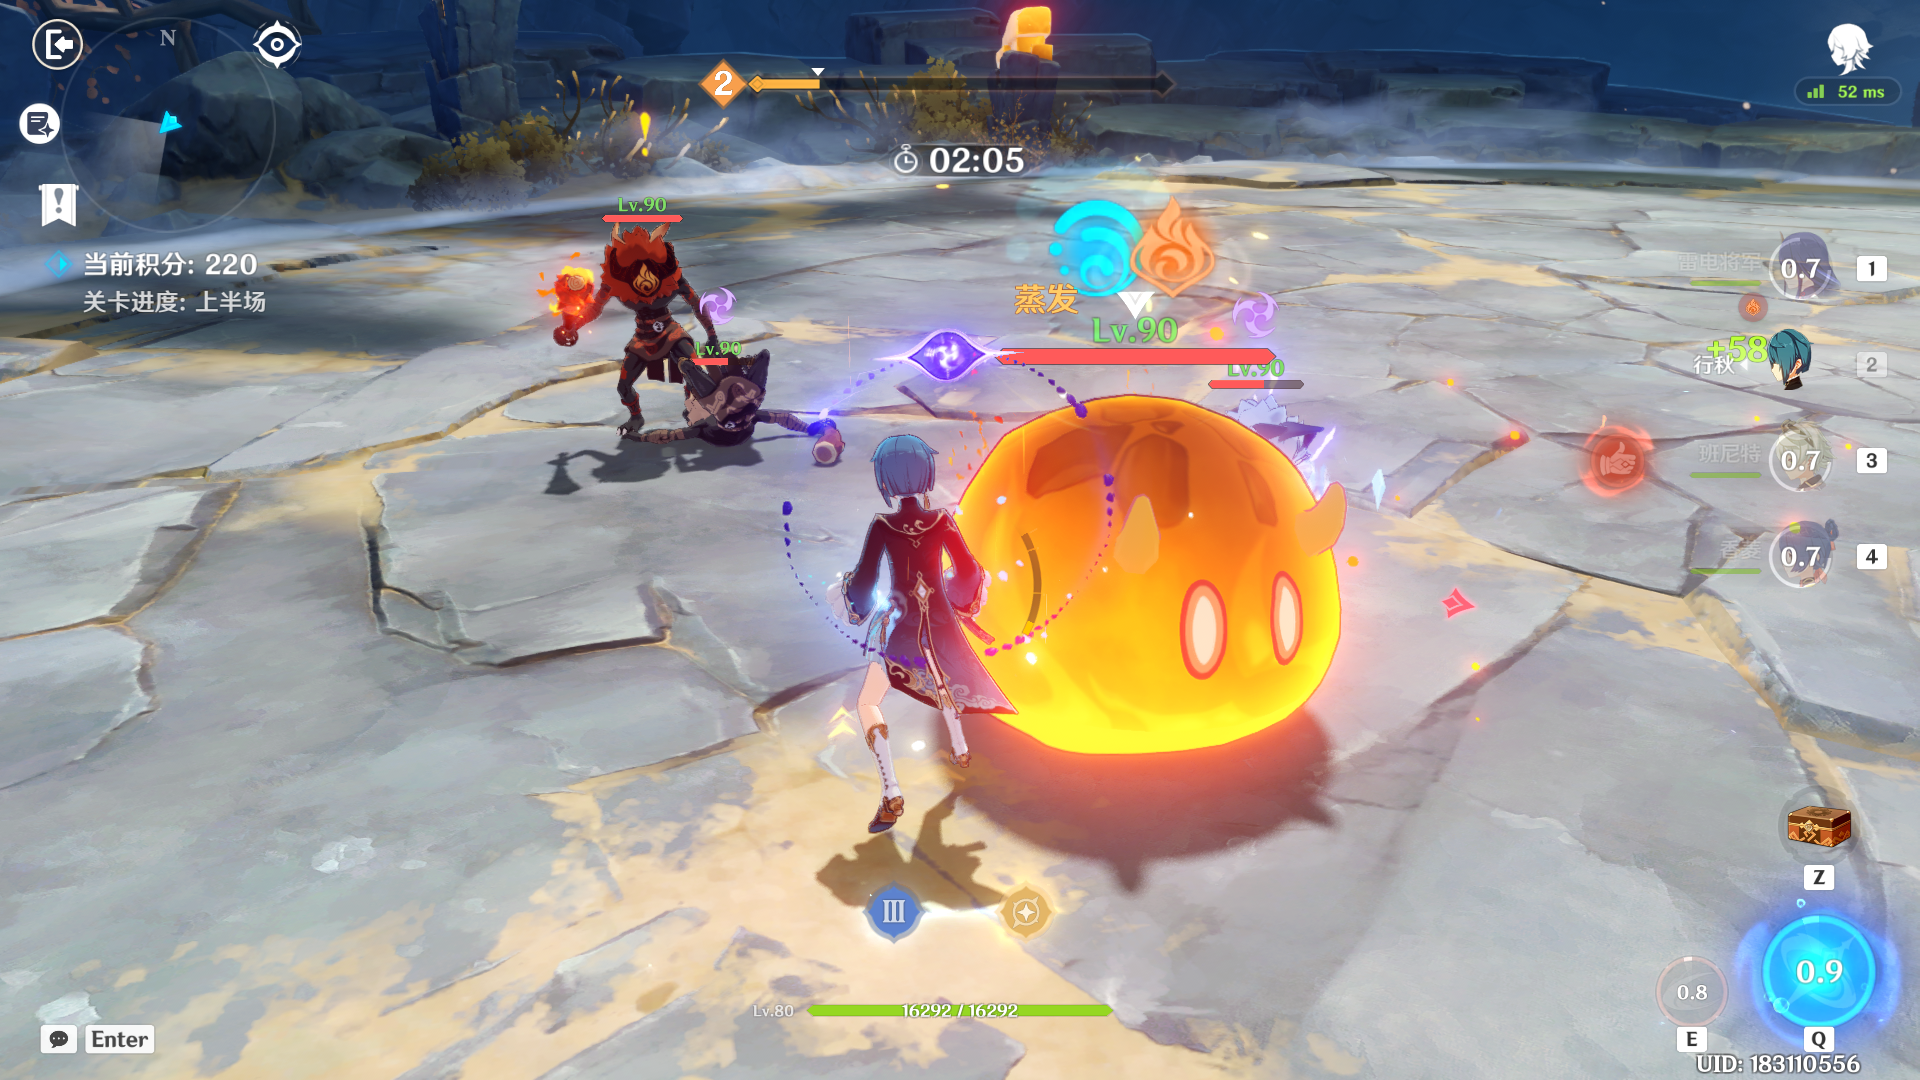character: (825, 382, 1005, 851)
hili: (527, 212, 745, 446)
slime: (911, 344, 1367, 799)
